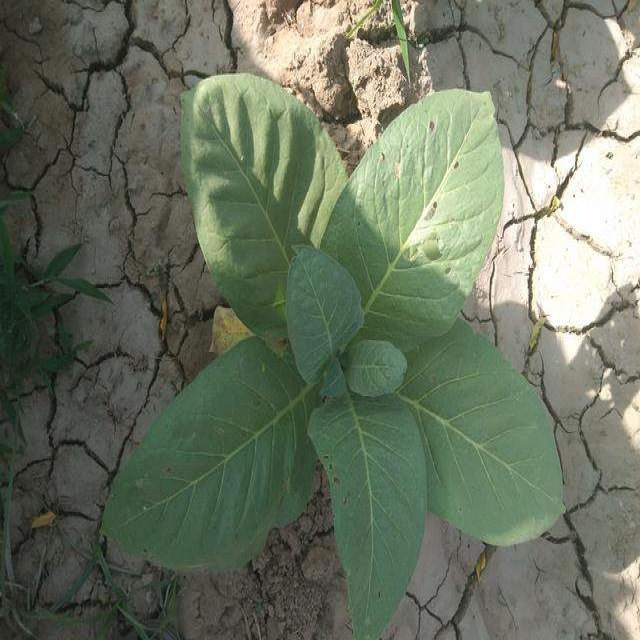crop: (110, 80, 560, 605)
